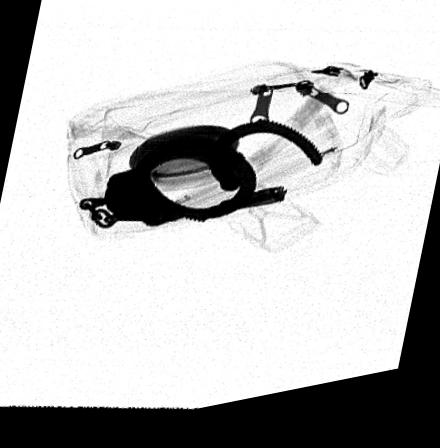HandCuffs: (77, 128, 325, 234)
